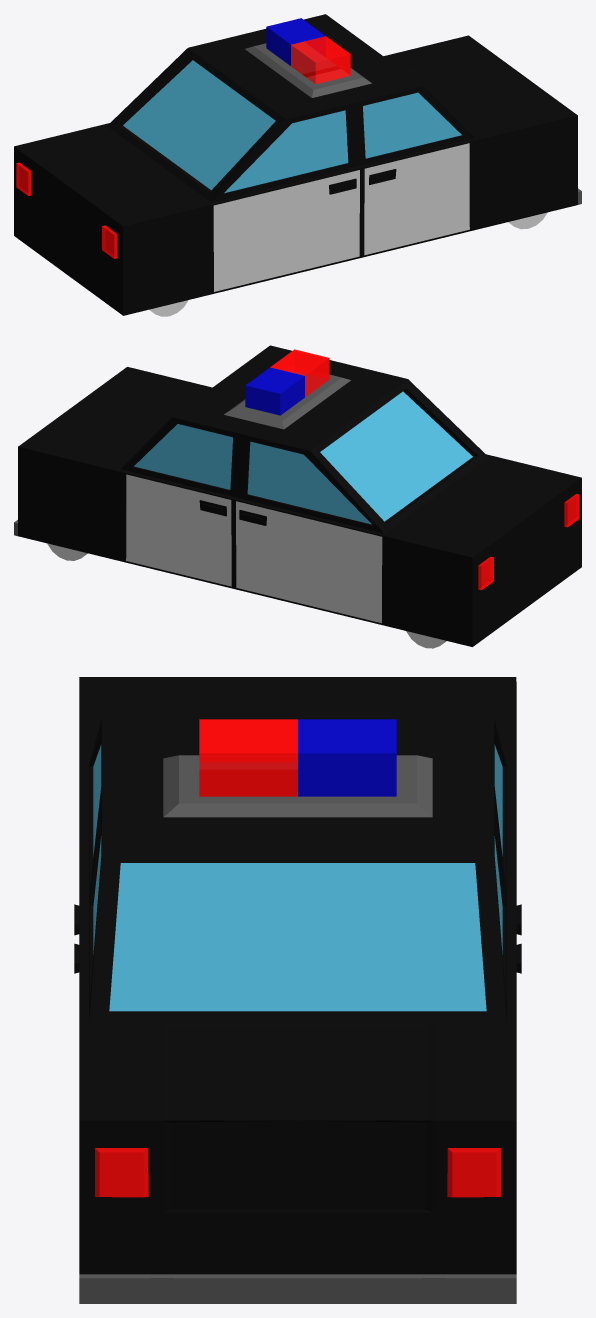
File: cop_car001.FBX
3 views of the same model, one above another, from view 1: azimuth 30°, elevation 25°; view 2: azimuth 150°, elevation 25°; view 3: azimuth 270°, elevation 25° (orthographic). The views are drawn at different scales.
Parts seen in each view (by area): view 1: Box003; view 2: Box003; view 3: Box003.
Boxes of the visible parts, x1,y1,x2,y2 form: Box003: [14, 14, 581, 315]; Box003: [14, 345, 581, 646]; Box003: [74, 677, 521, 1303].
Bounding box in the file's own units: 168 × 66.8 × 70.33.
